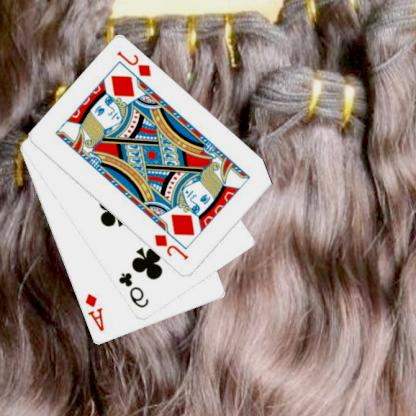6C: (117, 270, 152, 310)
AD: (84, 292, 107, 334)
JD: (116, 48, 154, 79), (153, 232, 192, 262)
